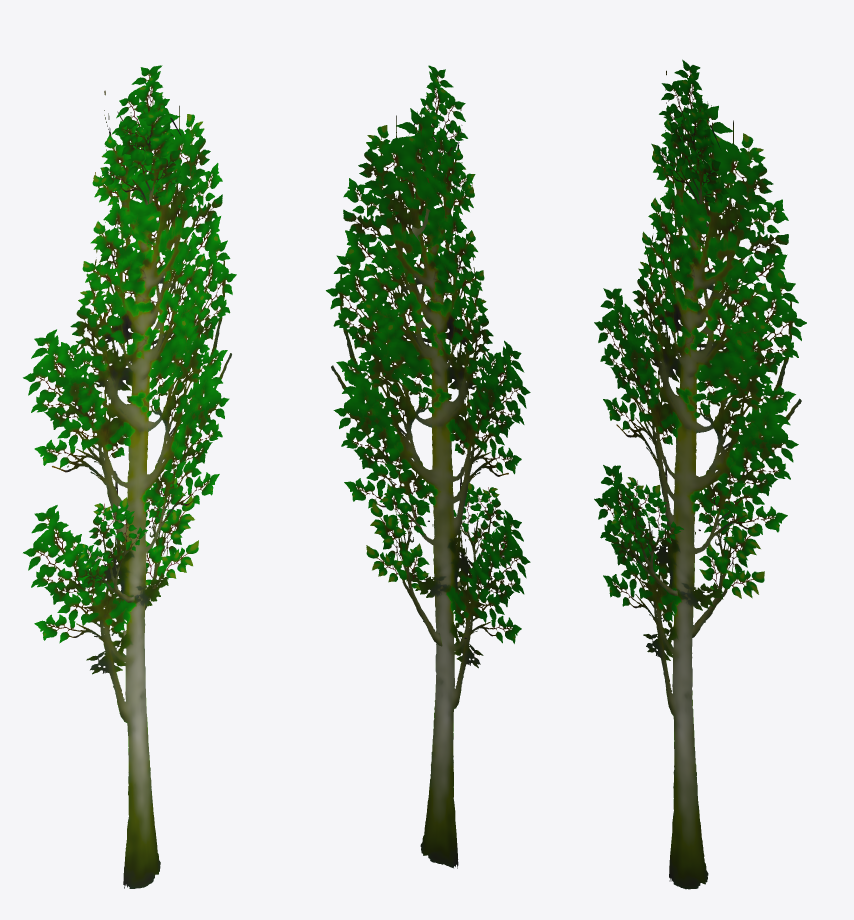
The model's file is street_vegetation_park_tree_topol_4.FBX.
3 views of the same model, side by side, from view 1: azimuth 30°, elevation 25°; view 2: azimuth 150°, elevation 25°; view 3: azimuth 330°, elevation 25° (orthographic). The views are drawn at different scales.
Parts seen in each view (by area): view 1: street_vegetation_park_tree_topol_4; view 2: street_vegetation_park_tree_topol_4; view 3: street_vegetation_park_tree_topol_4.
Part boxes in pixels (x1,y1,x2,y2): street_vegetation_park_tree_topol_4: (23,65,236,888); street_vegetation_park_tree_topol_4: (326,65,530,868); street_vegetation_park_tree_topol_4: (594,59,806,889).
Bounding box in the file's own units: 3429 × 11468 × 497.
Materials: 1 (1 with a texture image).
